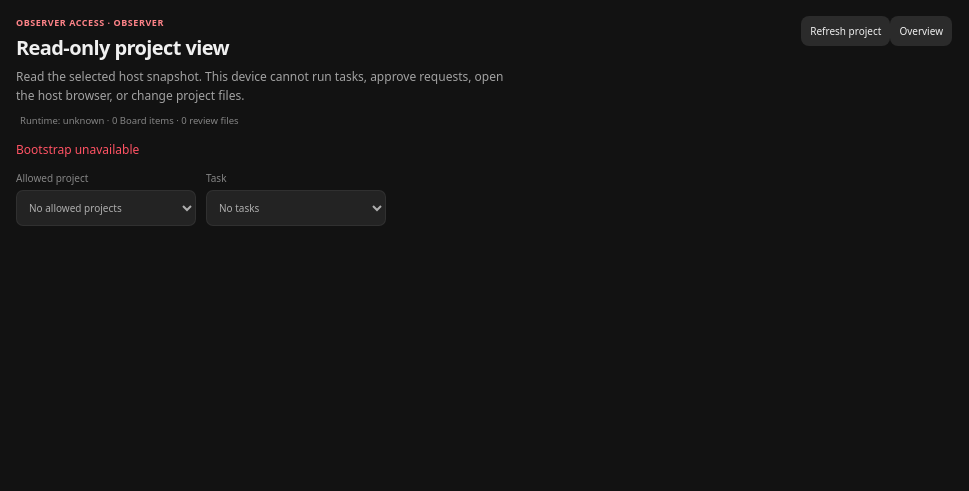
ObserverWorkspace › keeps project refresh available without a selected task and recovers a failed bootstrap
Expected: the message reads "Bootstrap unavailable", x1=16 y1=141 x2=139 y2=158
Click the button "Refresh project". click: coordinates (846, 31)
box: x1=801 y1=16 x2=890 y2=46
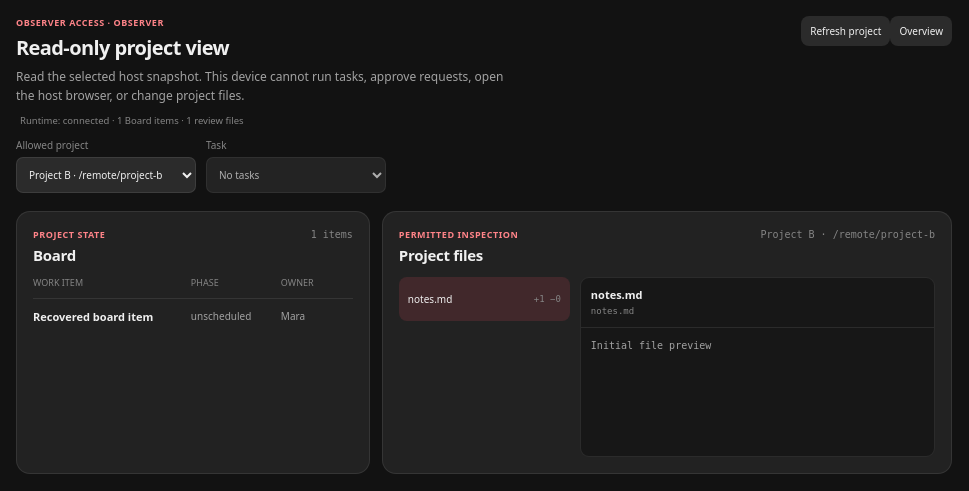
Result: the text "Recovered board item" is shown at x1=33 y1=308 x2=153 y2=324
